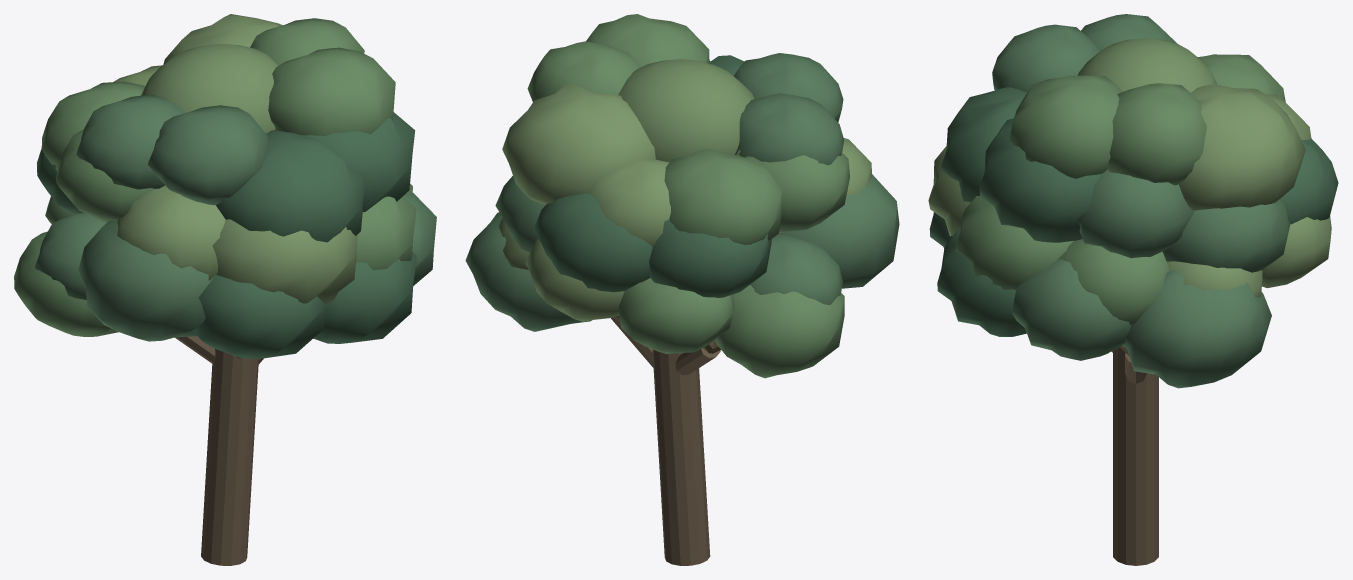
Rendered from beech_tree.glb.
3 renders of one model, left to right at view 1: azimuth 30°, elevation 25°; view 2: azimuth 150°, elevation 25°; view 3: azimuth 270°, elevation 25°, orthographic. The views are drawn at different scales.
Visible parts, largest first — view 1: BeechTree; view 2: BeechTree; view 3: BeechTree.
Part boxes in pixels (x1,y1,x2,y2): BeechTree: [14, 14, 436, 565]; BeechTree: [465, 14, 899, 565]; BeechTree: [928, 14, 1338, 565].
Size of the model in its own units: 0.6112 by 0.7965 by 0.5801.
